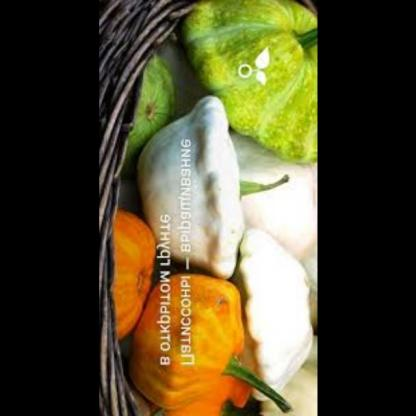squash-patisson: (143, 96, 276, 278), (190, 1, 318, 166), (124, 266, 256, 411), (232, 217, 317, 397), (99, 204, 157, 343), (115, 51, 182, 168)
